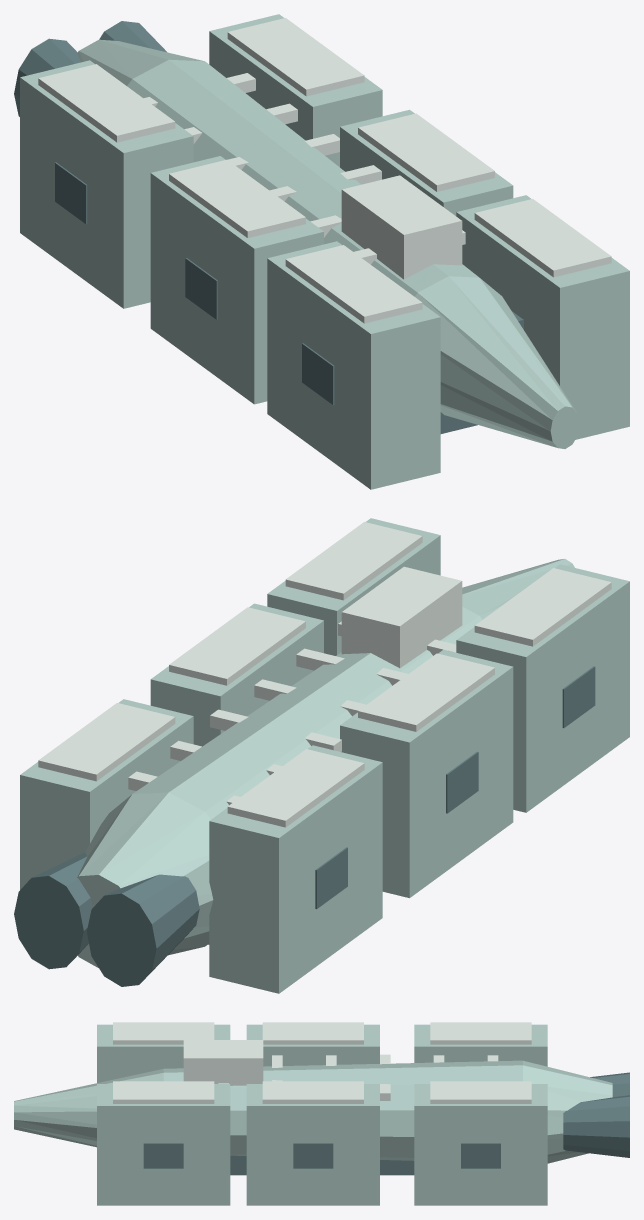
3 renders of one model, top to bottom at view 1: azimuth 30°, elevation 25°; view 2: azimuth 150°, elevation 25°; view 3: azimuth 270°, elevation 25°, orthographic. The views are drawn at different scales.
Size of the model in its own units: 3.24 by 2.14 by 10.28.
